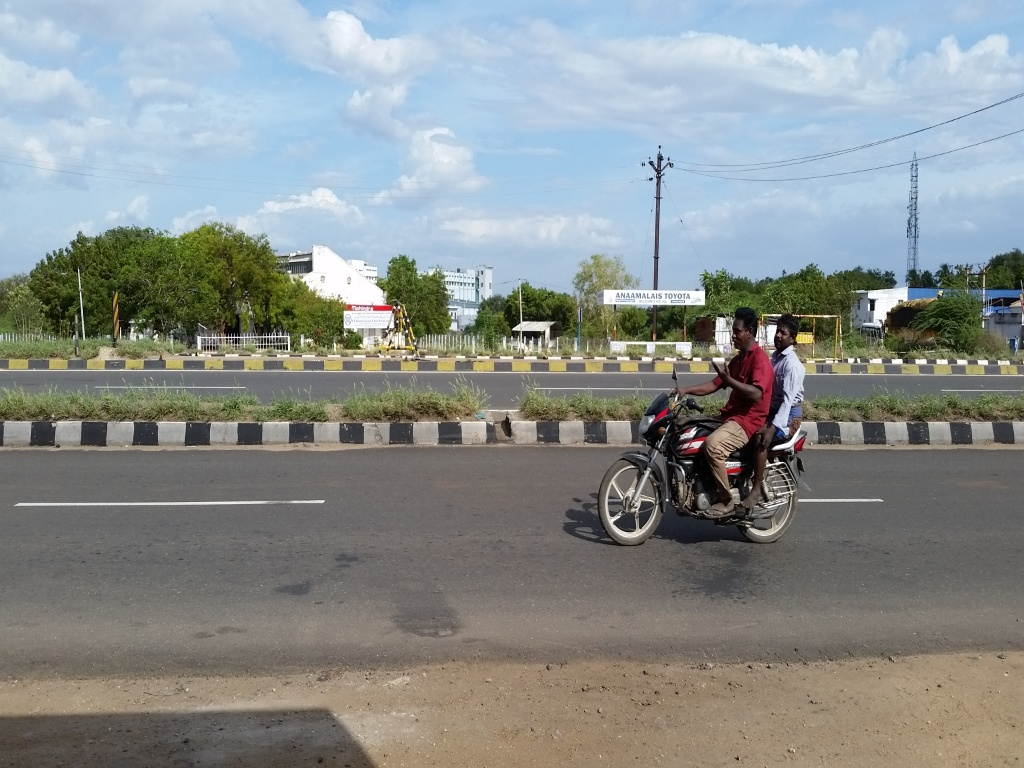biker: (570, 253, 852, 563)
nohelmet: (770, 306, 803, 362), (728, 301, 761, 357)
